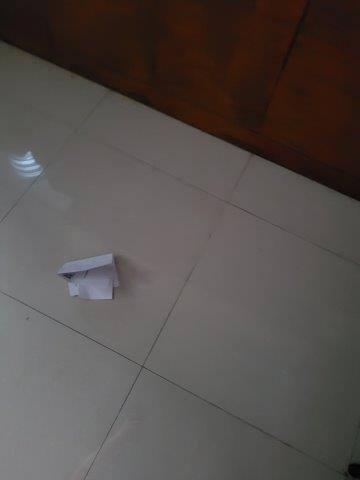kertas: (60, 252, 120, 299)
